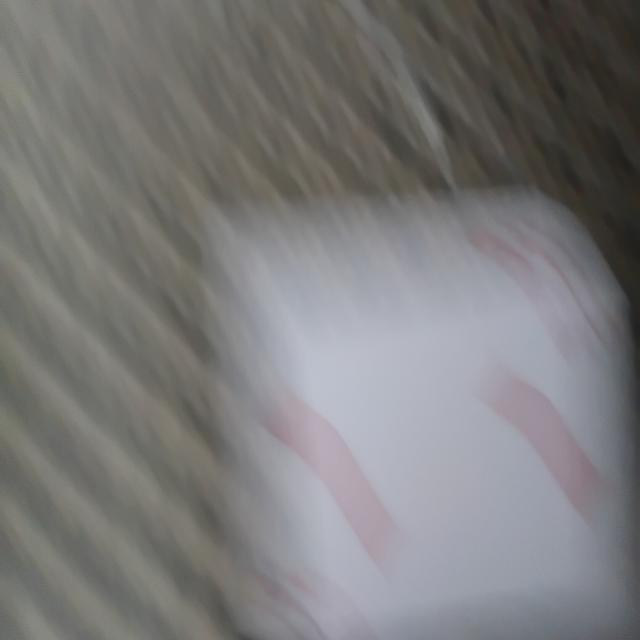2S: (54, 124, 119, 188)
